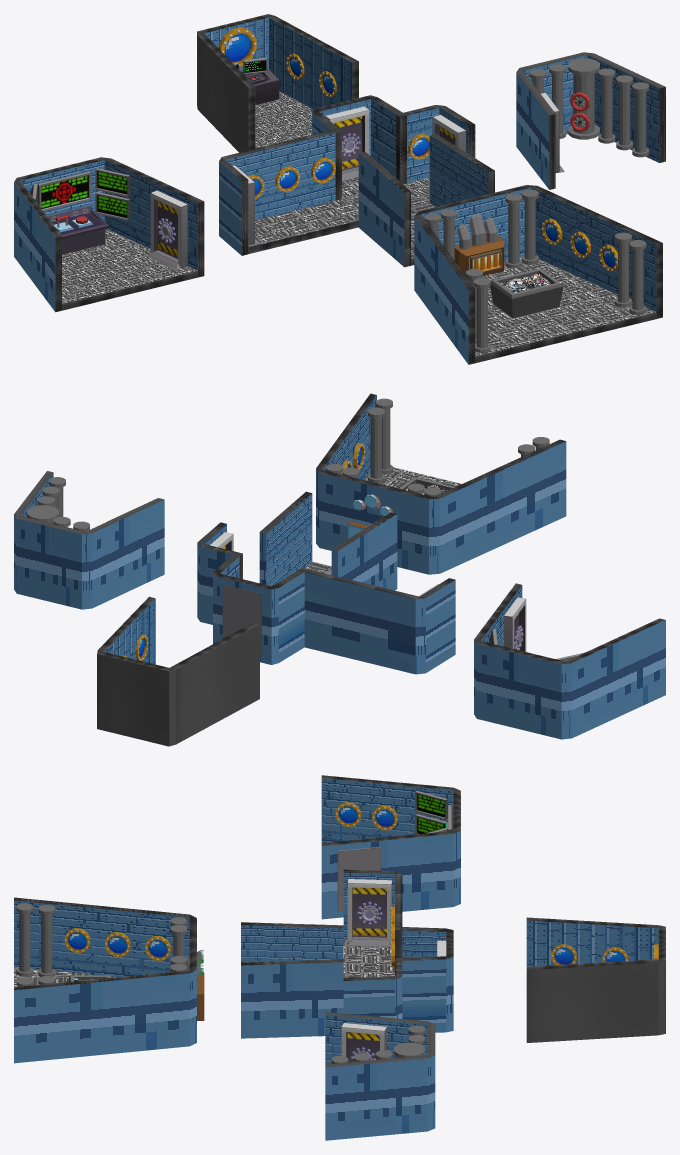
Rendered from The Full Submarine.fbx.
3 renders of one model, top to bottom at view 1: azimuth 30°, elevation 25°; view 2: azimuth 150°, elevation 25°; view 3: azimuth 270°, elevation 25°, orthographic. The views are drawn at different scales.
Parts seen in each view (by area): view 1: Engine Room Walls, Hallway Walls, Defense Room Walls, Control Walls, Pipe Room Walls, HallwayFloor, Moniltor, doorFINAL_3, The Engine, Fuel Bin, table, doorFINAL_2 (+17 smaller); view 2: Hallway Walls, Engine Room Walls, Defense Room Walls, Control Walls, Pipe Room Walls, doorFINAL_2, doorFINAL_3, pipe_5, pipe_4, The Engine; view 3: Engine Room Walls, Hallway Walls, Control Walls, Defense Room Walls, Pipe Room Walls, doorFINAL_1, HallwayFloor, doorFINAL_4, Moniltor, doorFINAL_3, pipe_7, pipe_6 (+2 smaller).
Boxes of the visible parts, box(x1,y1,x2,y2) form: Engine Room Walls: box(414, 185, 662, 364); Hallway Walls: box(219, 95, 494, 267); Defense Room Walls: box(14, 157, 204, 312); Control Walls: box(197, 14, 358, 152); Pipe Room Walls: box(516, 52, 665, 189); HallwayFloor: box(248, 177, 434, 265); Moniltor: box(30, 168, 130, 220); doorFINAL_3: box(146, 190, 187, 269); The Engine: box(454, 214, 504, 279); Fuel Bin: box(490, 268, 563, 318); table: box(47, 205, 108, 254); doorFINAL_2: box(325, 106, 369, 180); Hallway Walls: box(197, 491, 455, 674); Engine Room Walls: box(316, 393, 566, 574); Defense Room Walls: box(474, 583, 665, 739); Control Walls: box(97, 596, 259, 746); Pipe Room Walls: box(14, 471, 164, 609); doorFINAL_2: box(222, 584, 261, 655); doorFINAL_3: box(504, 597, 526, 651); pipe_5: box(368, 407, 384, 483); pipe_4: box(376, 398, 392, 474); The Engine: box(347, 494, 393, 538); Engine Room Walls: box(14, 897, 196, 1063); Hallway Walls: box(241, 869, 453, 1038); Control Walls: box(526, 917, 665, 1042); Defense Room Walls: box(321, 775, 460, 919); Pipe Room Walls: box(325, 1012, 435, 1140); doorFINAL_1: box(347, 879, 392, 946); HallwayFloor: box(343, 939, 394, 977); doorFINAL_4: box(341, 1023, 386, 1062); Moniltor: box(415, 791, 453, 834); doorFINAL_3: box(337, 847, 380, 911); pipe_7: box(16, 903, 33, 976); pipe_6: box(38, 905, 55, 976).
Bounding box in the file's own units: 1181 × 138 × 1113.
15 materials, 15 textured.
